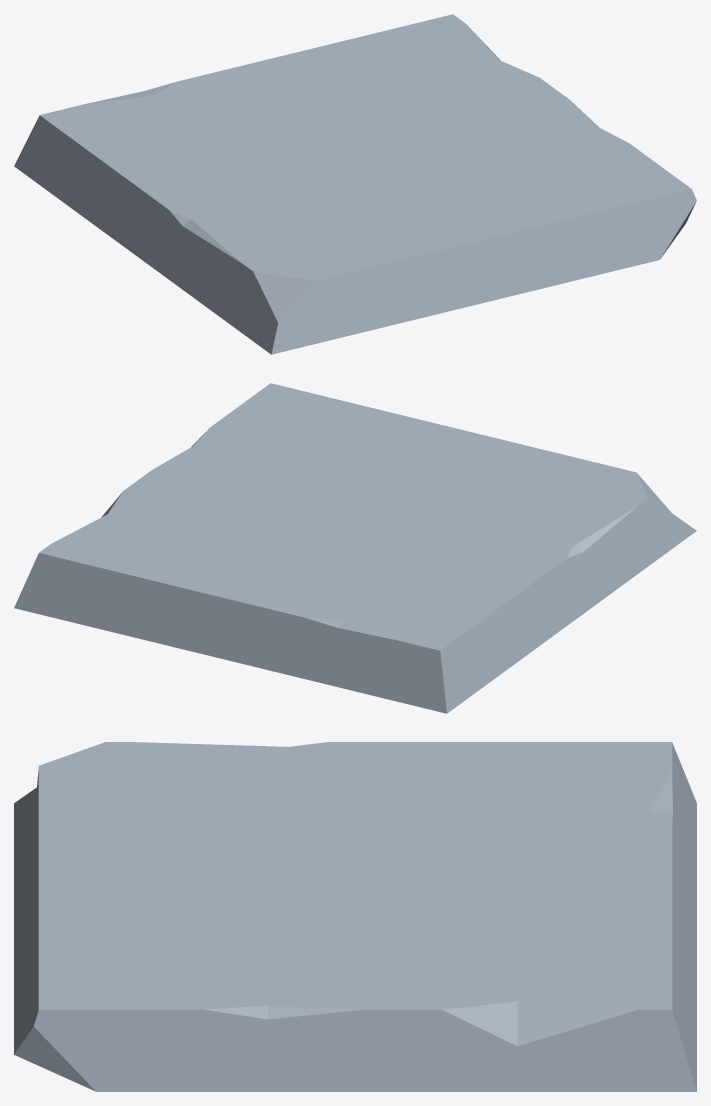
The model's file is plate_1_2.fbx.
3 renders of one model, top to bottom at view 1: azimuth 30°, elevation 25°; view 2: azimuth 150°, elevation 25°; view 3: azimuth 270°, elevation 25°, orthographic. The views are drawn at different scales.
Visible parts, largest first — view 1: plate_1_2; view 2: plate_1_2; view 3: plate_1_2.
Part boxes in pixels (x1,y1,x2,y2): plate_1_2: (14, 14, 696, 354); plate_1_2: (14, 383, 696, 713); plate_1_2: (14, 742, 696, 1091).
Size of the model in its own units: 8.63 by 1 by 8.63.
